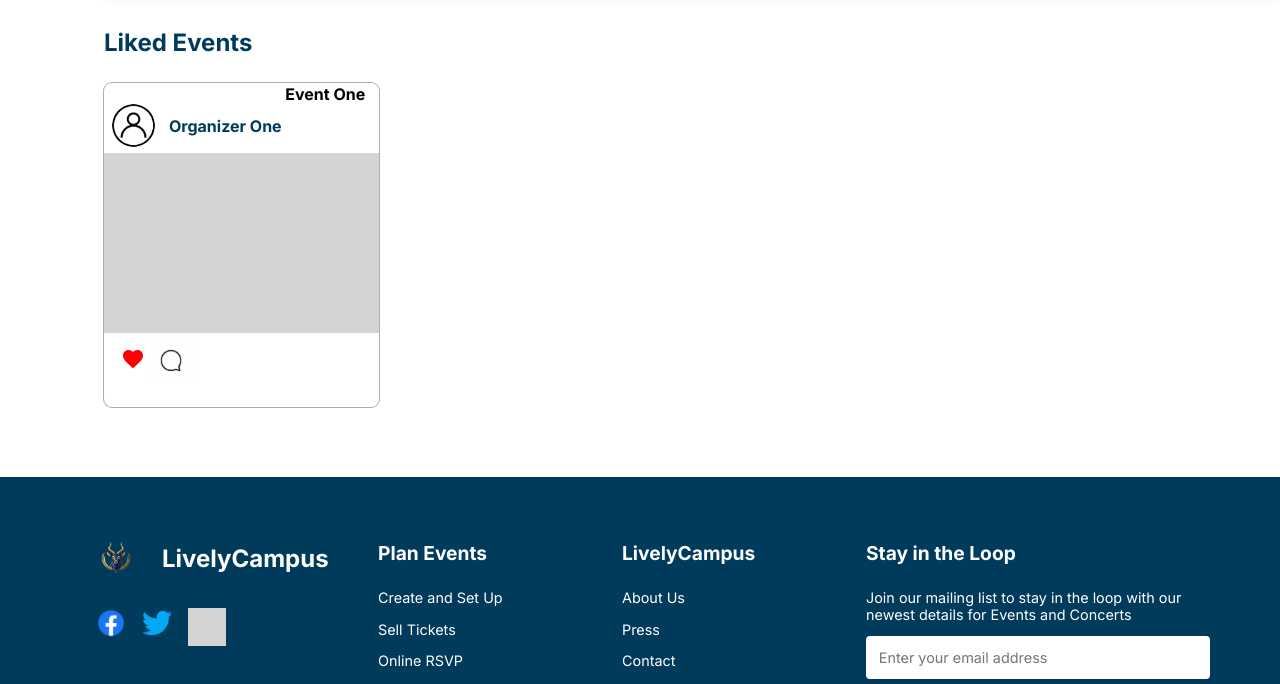
Test: handles unlike event correctly with optimistic UI update
(page scrolled)
Expected: the text "Event One" is shown, [285, 84, 365, 104]
# Click the unlike button
Step 1. Click the button named "unlike event one" → (133, 360), box [118, 343, 149, 377]
(page scrolled)
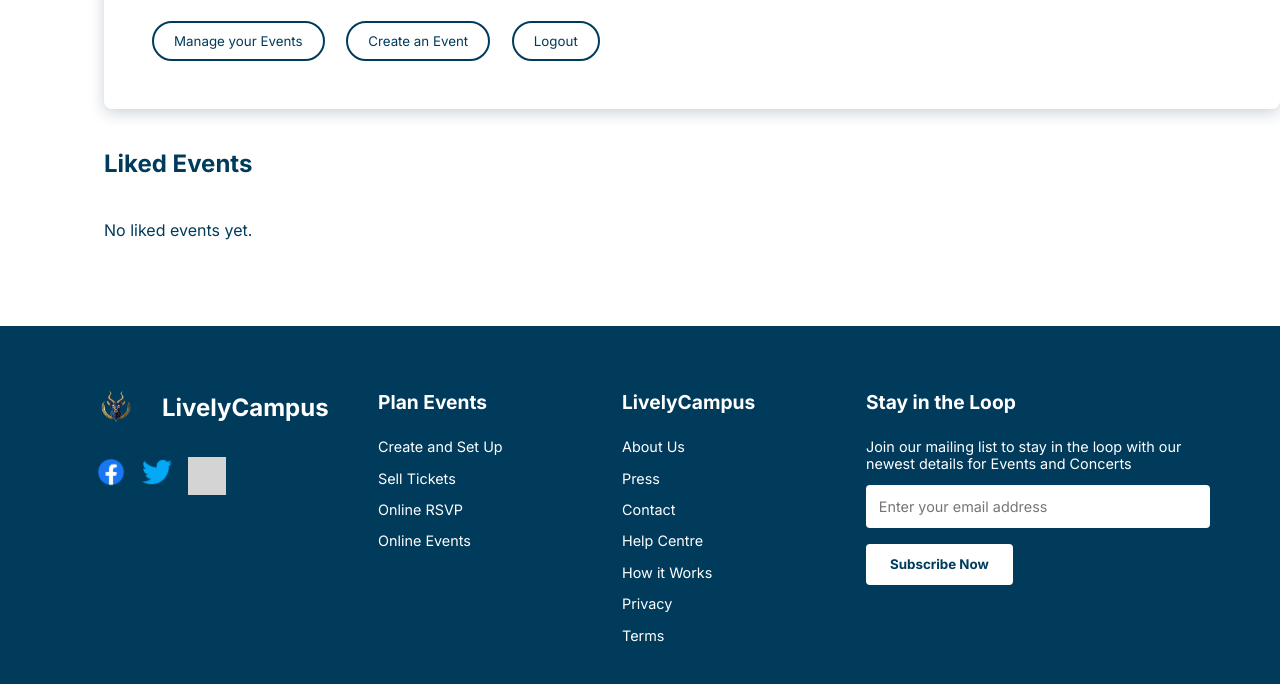
Result: the heading "Event One" is gone
